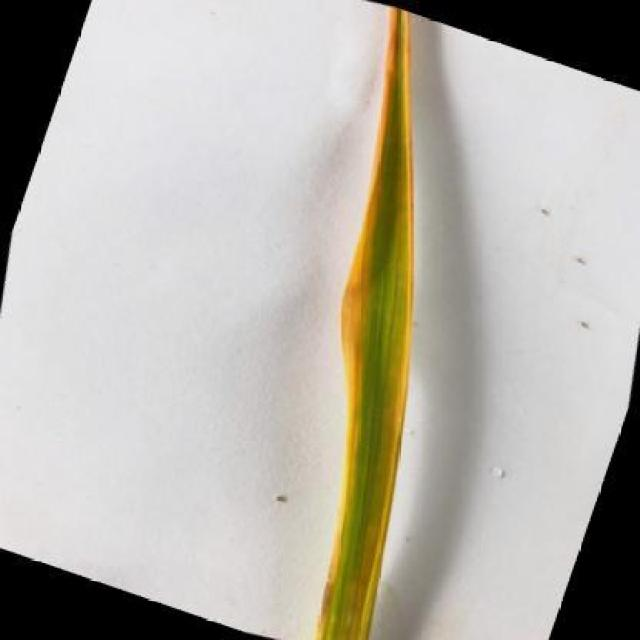Rice False Smut: (168, 0, 583, 640)
